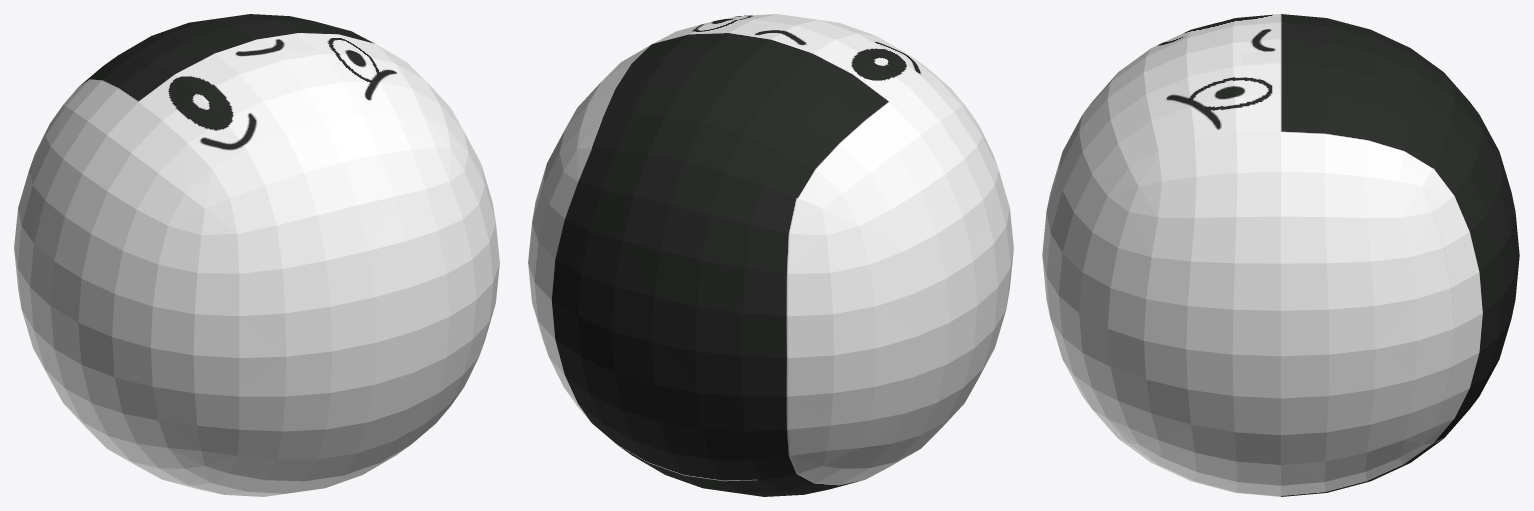
Rendered from circleRiceBall.obj.
3 views of the same model, side by side, from view 1: azimuth 30°, elevation 25°; view 2: azimuth 150°, elevation 25°; view 3: azimuth 270°, elevation 25° (orthographic).
Parts seen in each view (by area): view 1: Cube; view 2: Cube; view 3: Cube.
Part boxes in pixels (x1,y1,x2,y2): Cube: (14, 14, 499, 496); Cube: (528, 14, 1013, 496); Cube: (1042, 14, 1519, 496).
Size of the model in its own units: 1.68 by 1.68 by 1.68.
Materials: 1 (1 with a texture image).
